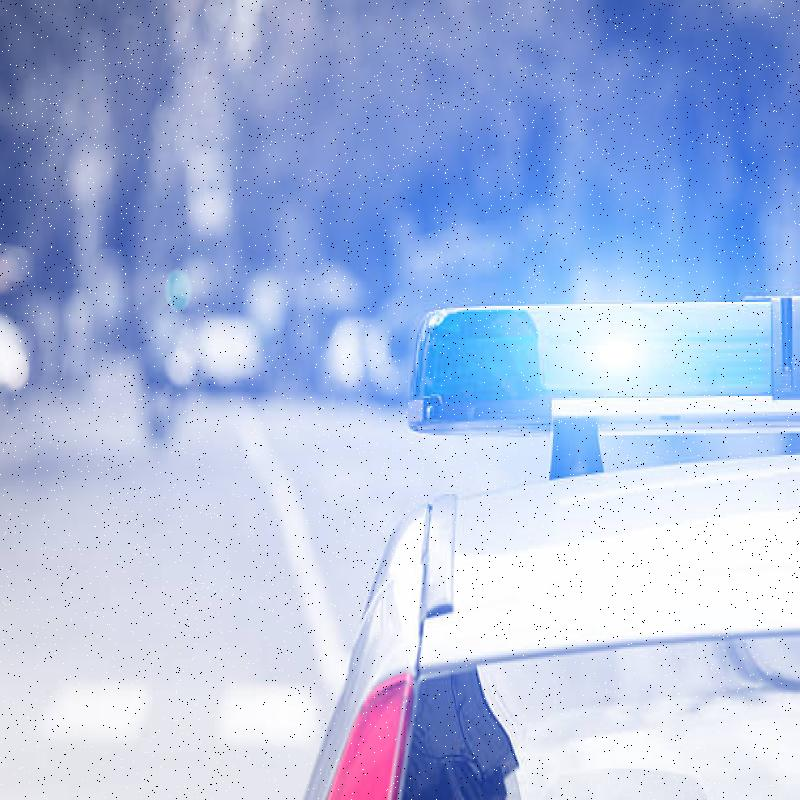AmbulanceSiren: (384, 302, 800, 453)
